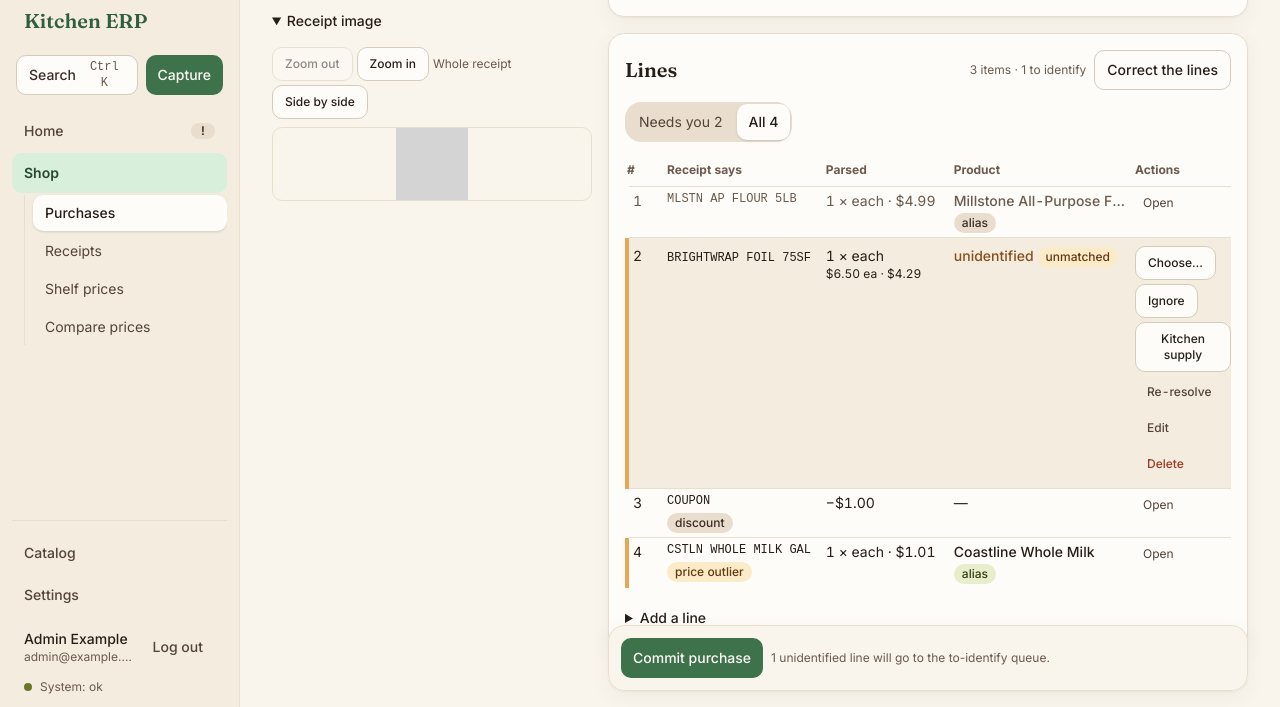
it: kitchen supply lines in review › marks a line a kitchen supply of the chosen kind from review
This screenshot has width=1280, height=707.
(page scrolled)
Click the button "Kitchen supply".
click(1183, 347)  # box [1135, 322, 1231, 372]
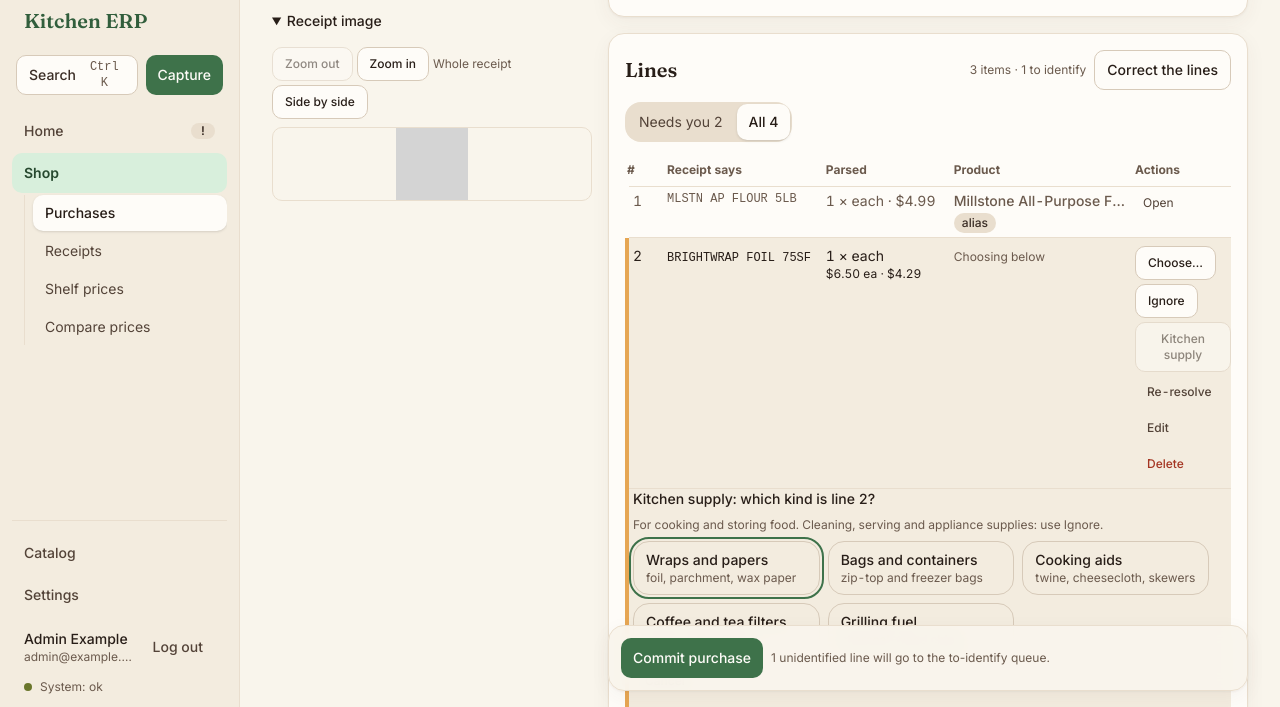
expect the element "Kitchen supply: which kind is line 2?" shows "Cleaning, serving and appliance supplies: use Ignore.": met, box [633, 517, 1103, 532]
Click the button "Wraps and papers foil, parchment, wax paper".
click(726, 568)  # box [633, 541, 820, 595]
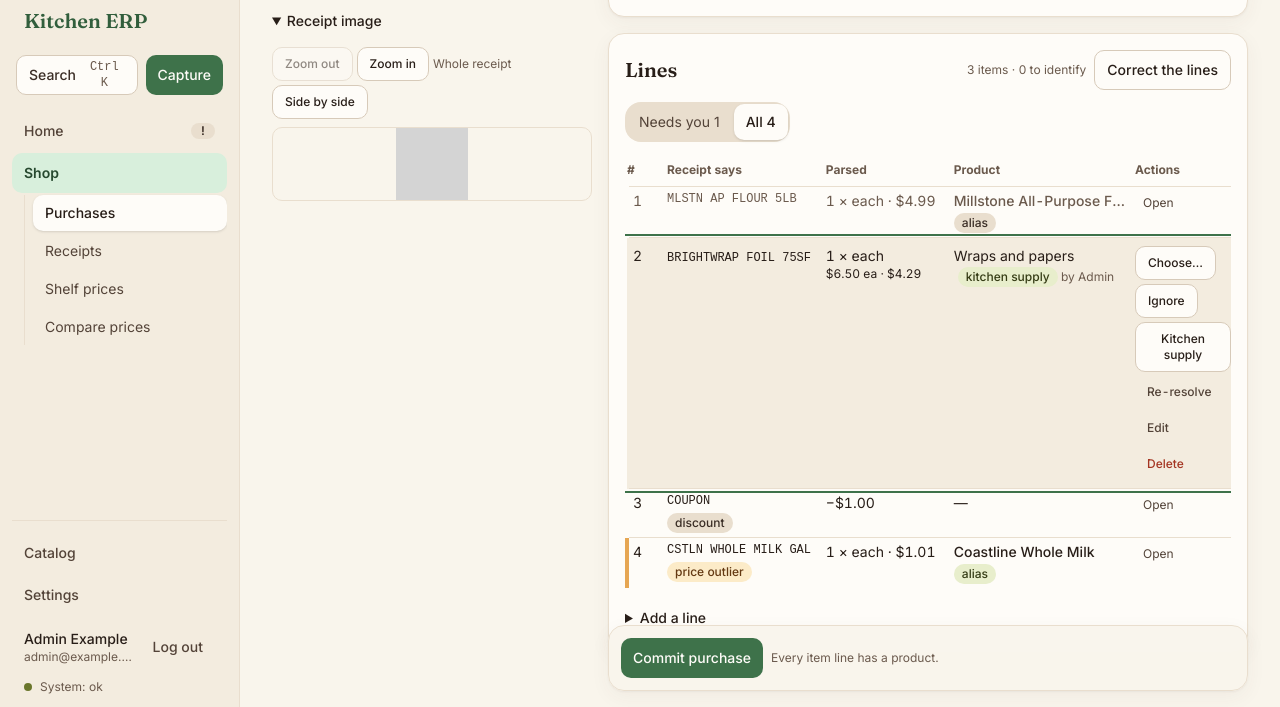
expect the row with test id "review-line" shows "kitchen supply": met, box [966, 269, 1050, 284]
expect the row with test id "review-line" shows "Wraps and papers": met, box [954, 247, 1074, 264]
expect the text "which kind" is gone: met
